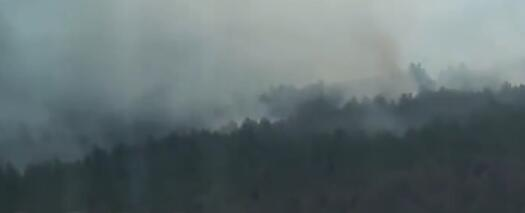yanwu: (1, 1, 489, 151)
